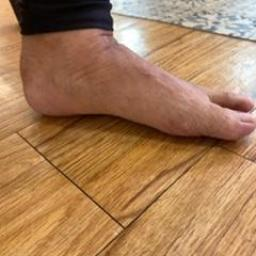Medial View -Left Foot-: (3, 6, 255, 159)
